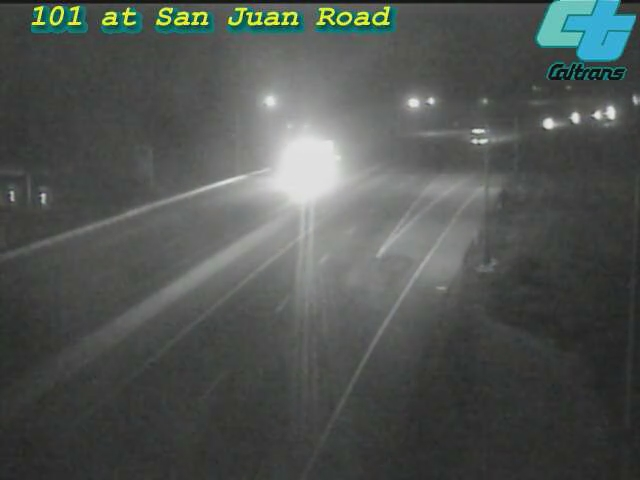vehicle: (261, 126, 341, 206), (525, 100, 575, 150), (453, 110, 503, 160), (549, 91, 599, 141), (583, 87, 633, 137), (570, 90, 620, 140)
